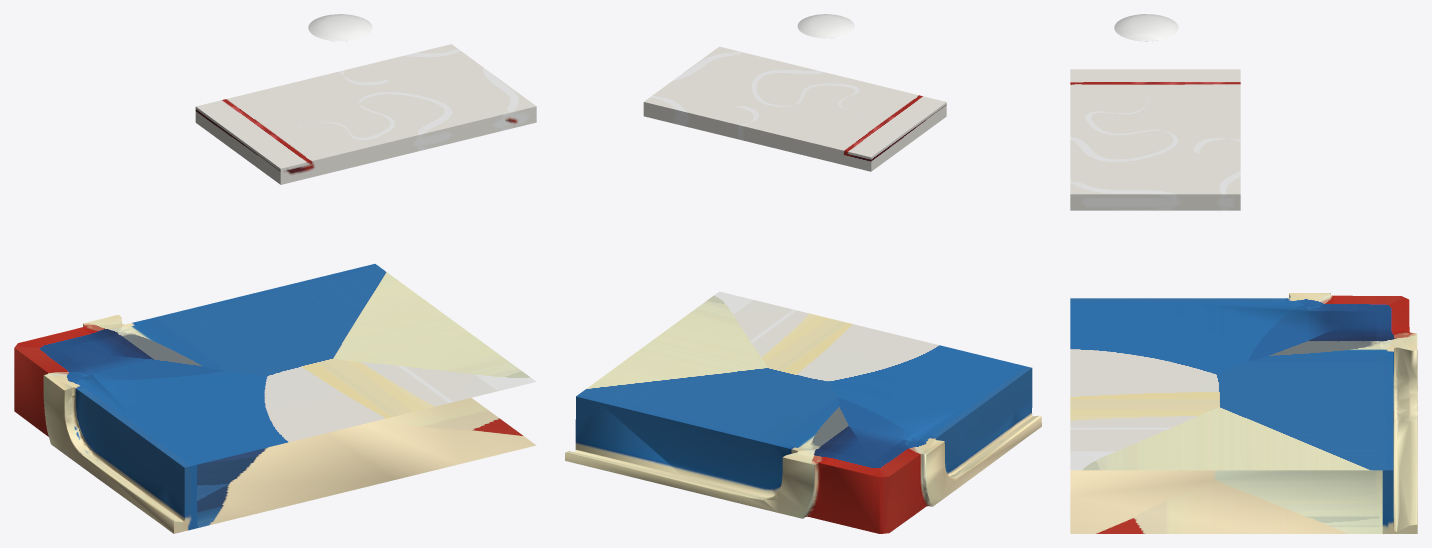
File: 11-roof-back-left.fbx
The picture shows the model from 3 angles, left to right: view 1: azimuth 30°, elevation 25°; view 2: azimuth 150°, elevation 25°; view 3: azimuth 270°, elevation 25°; orthographic projection. The views are drawn at different scales.
Parts seen in each view (by area): view 1: roof-back-left; view 2: roof-back-left; view 3: roof-back-left.
Part boxes in pixels (x1,y1,x2,y2): roof-back-left: (14,14,536,533); roof-back-left: (565,14,1041,533); roof-back-left: (1070,14,1417,533).
Bounding box in the file's own units: 4685 × 5340 × 3876.
1 material, 1 textured.
